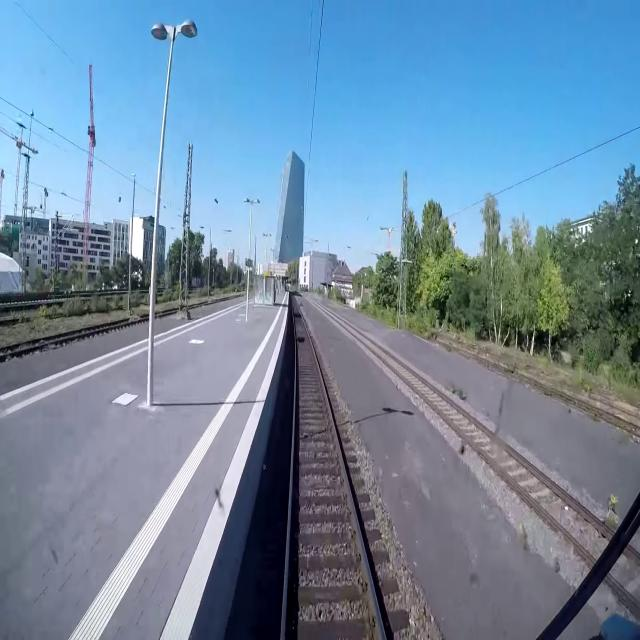rail-track: (334, 316, 607, 557), (286, 296, 384, 639), (0, 326, 105, 354), (0, 294, 128, 306)
